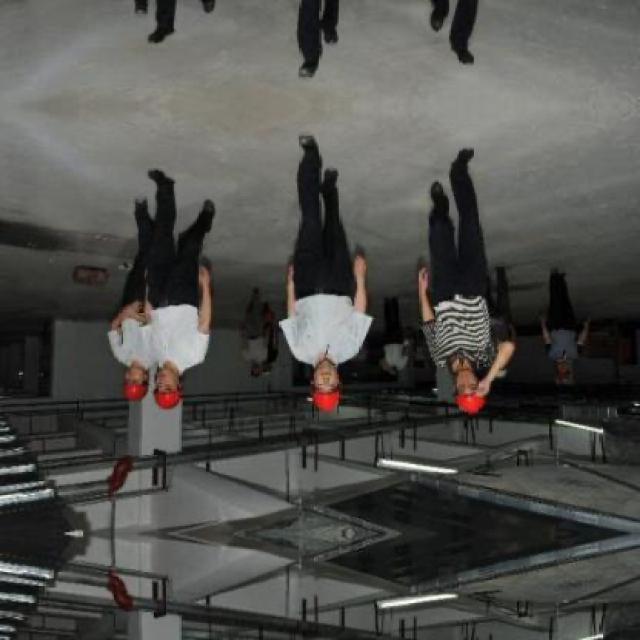con casco: (432, 314, 543, 418), (137, 358, 224, 426), (279, 360, 392, 408), (105, 358, 159, 424)
